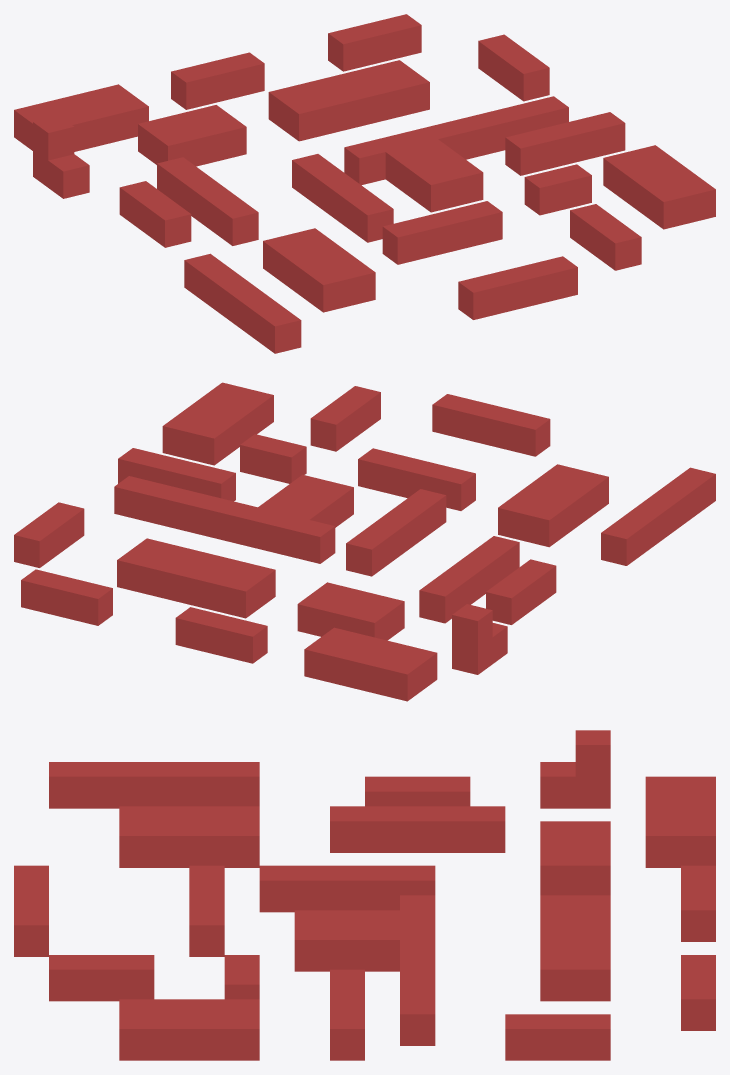
3 views of the same model, one above another, from view 1: azimuth 30°, elevation 25°; view 2: azimuth 150°, elevation 25°; view 3: azimuth 270°, elevation 25° (orthographic). The views are drawn at different scales.
Parts seen in each view (by area): view 1: Object; view 2: Object; view 3: Object.
Part boxes in pixels (bbox=[...]): Object: bbox=[14, 14, 715, 353]; Object: bbox=[14, 382, 715, 701]; Object: bbox=[14, 730, 715, 1060].
Size of the model in its own units: 18 by 2 by 20.
Materials: 1 (1 with a texture image).
